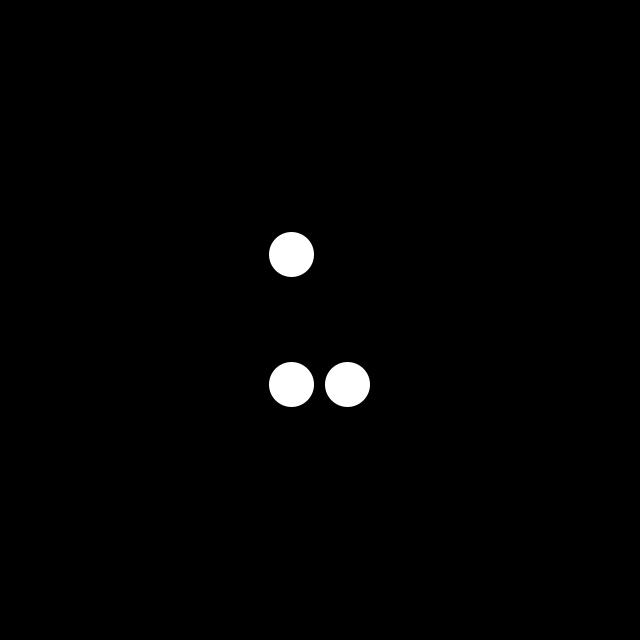U: (266, 230, 375, 412)
